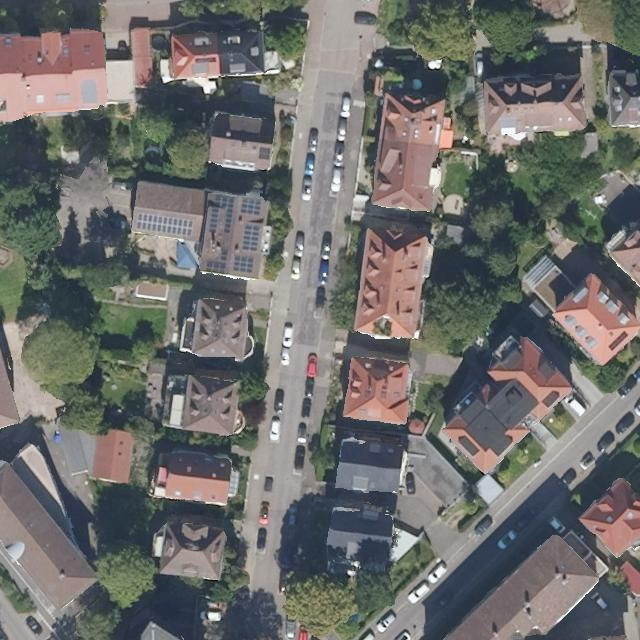PV: (135, 212, 194, 238), (208, 195, 235, 235), (241, 222, 261, 253), (232, 253, 255, 276), (607, 330, 630, 352), (239, 196, 262, 217), (258, 147, 270, 160), (207, 263, 226, 271), (628, 97, 639, 110)
